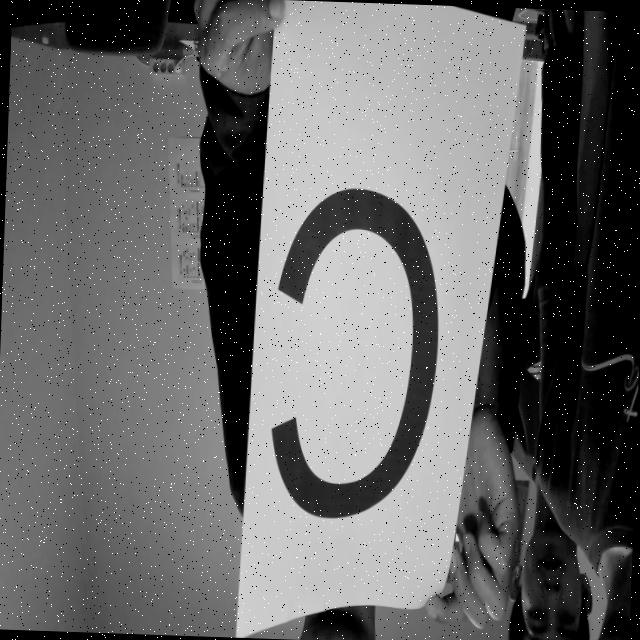c: (262, 184, 460, 526)
